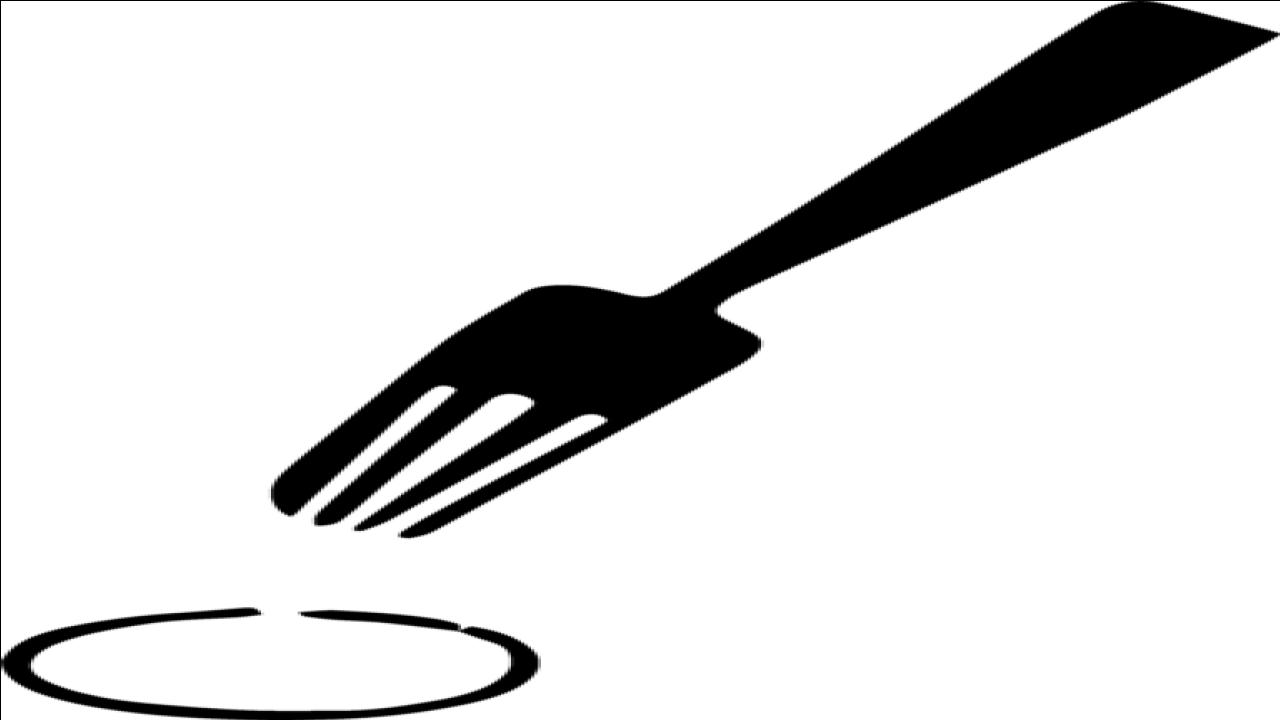fork: (270, 1, 1280, 540)
